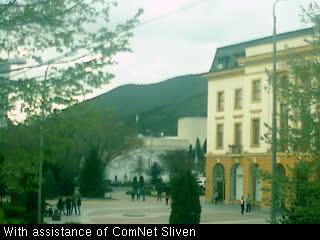person: (245, 194, 252, 214), (65, 195, 71, 217), (240, 195, 246, 216), (58, 197, 64, 216), (71, 196, 77, 214), (214, 189, 220, 205), (141, 186, 147, 202), (77, 198, 82, 216), (164, 191, 170, 206), (157, 189, 162, 201), (137, 185, 141, 200), (131, 189, 135, 200)
